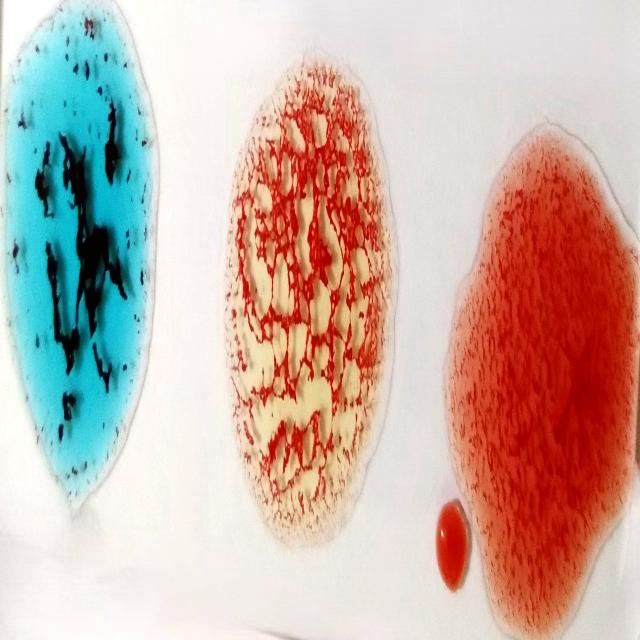A: (8, 0, 155, 501)
B: (230, 61, 388, 529)
D: (465, 117, 626, 640)
